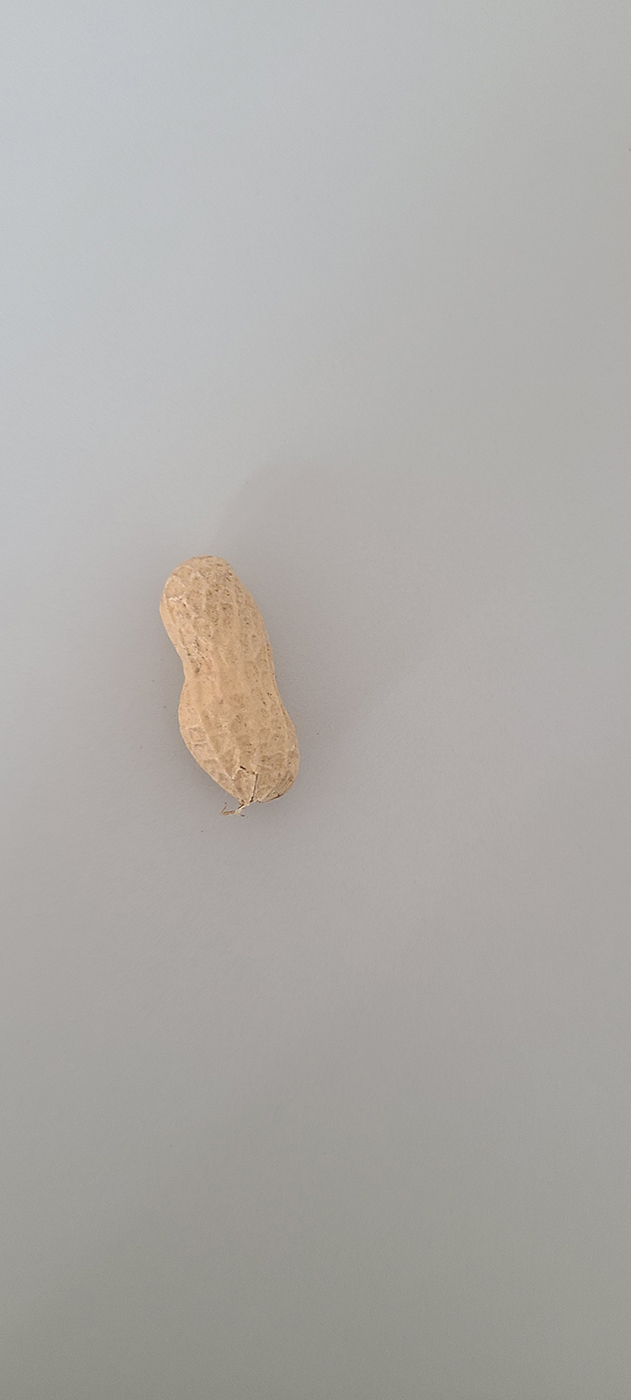h: (159, 552, 301, 808)
